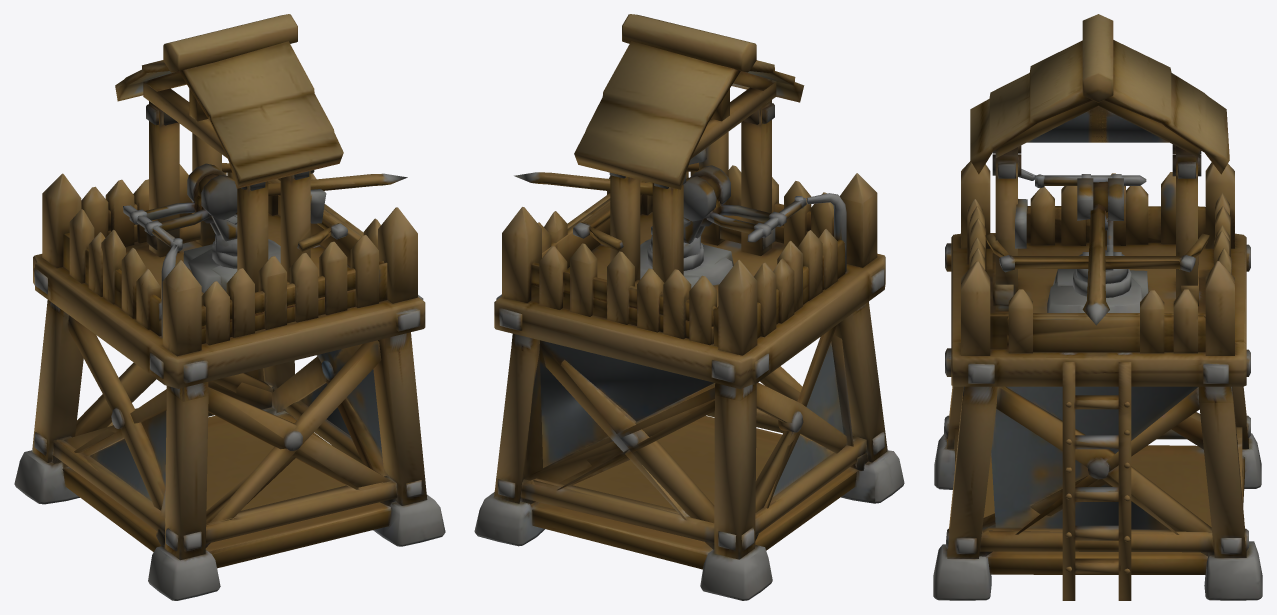
File: tripo_convert_ce5f6b1e-3647-4bee-9e30-97055c2a890b.fbx
3 views of the same model, side by side, from view 1: azimuth 30°, elevation 25°; view 2: azimuth 150°, elevation 25°; view 3: azimuth 270°, elevation 25° (orthographic).
Parts seen in each view (by area): view 1: tripo_node_ce5f6b1e; view 2: tripo_node_ce5f6b1e; view 3: tripo_node_ce5f6b1e.
Boxes of the visible parts, x1,y1,x2,y2 form: tripo_node_ce5f6b1e: [14, 14, 445, 600]; tripo_node_ce5f6b1e: [474, 14, 904, 600]; tripo_node_ce5f6b1e: [933, 14, 1262, 600].
Size of the model in its own units: 0.6816 by 0.998 by 0.6074.
Materials: 1 (1 with a texture image).
